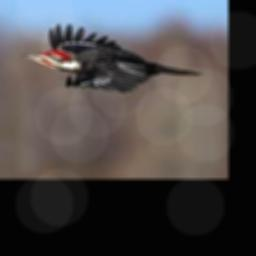Woodpecker: (20, 23, 202, 93)
